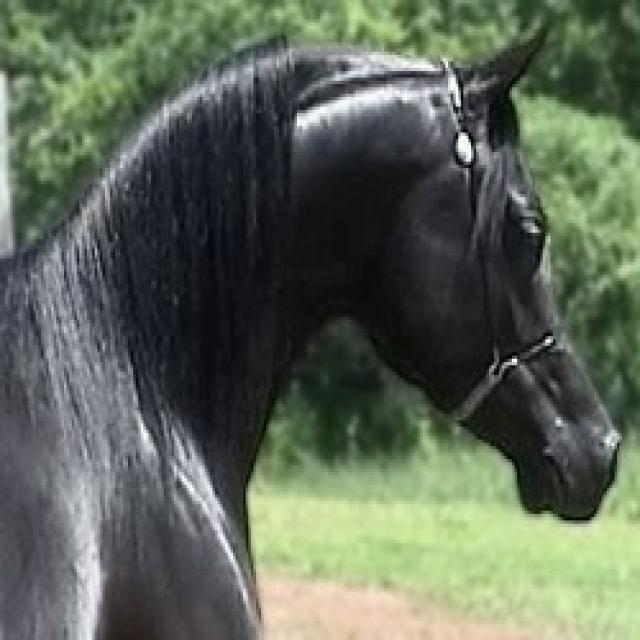horse: (0, 23, 625, 636)
